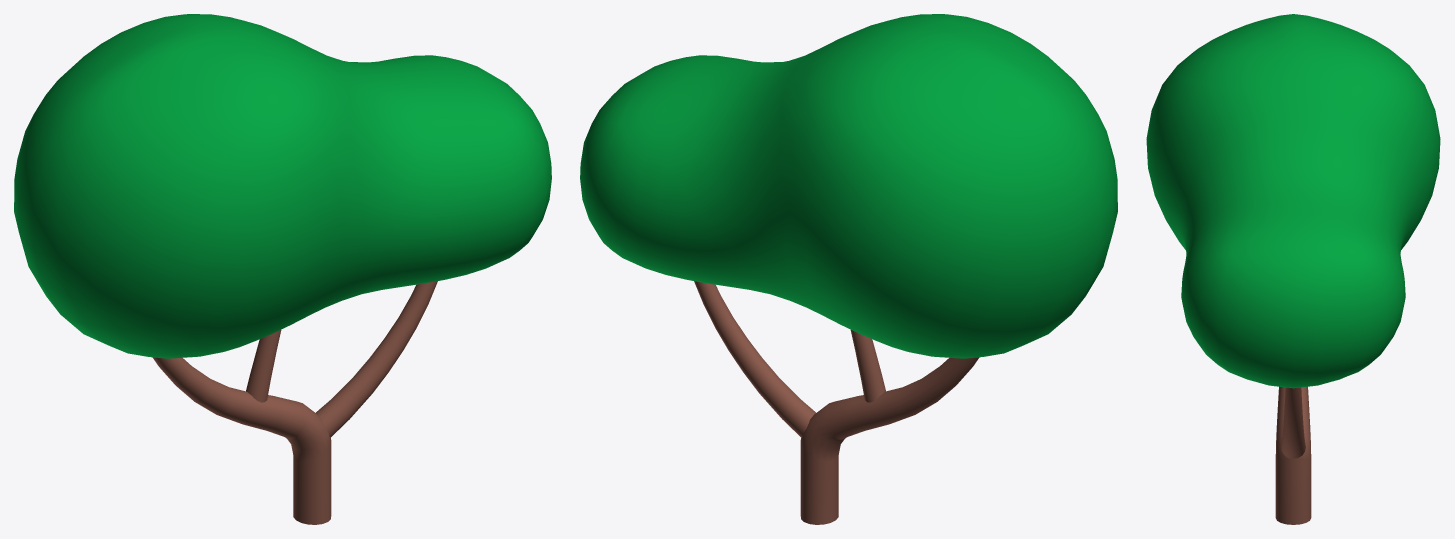
The model's file is Farm_16_Tree_3.glb.
The picture shows the model from 3 angles, left to right: view 1: azimuth 30°, elevation 25°; view 2: azimuth 150°, elevation 25°; view 3: azimuth 270°, elevation 25°; orthographic projection. The views are drawn at different scales.
Parts seen in each view (by area): view 1: Farm_16_Tree_3; view 2: Farm_16_Tree_3; view 3: Farm_16_Tree_3.
Boxes of the visible parts, x1,y1,x2,y2 form: Farm_16_Tree_3: (14, 14, 551, 524); Farm_16_Tree_3: (580, 14, 1117, 524); Farm_16_Tree_3: (1146, 14, 1440, 524).
Size of the model in its own units: 5.15 by 5.02 by 3.05.
Materials: 1 (1 with a texture image).
